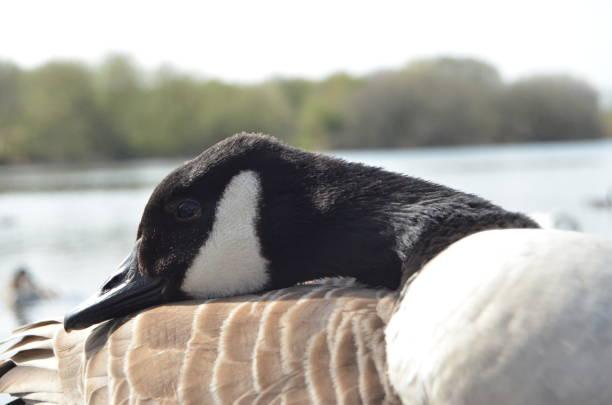Canadian-Goose: (0, 131, 612, 405)
